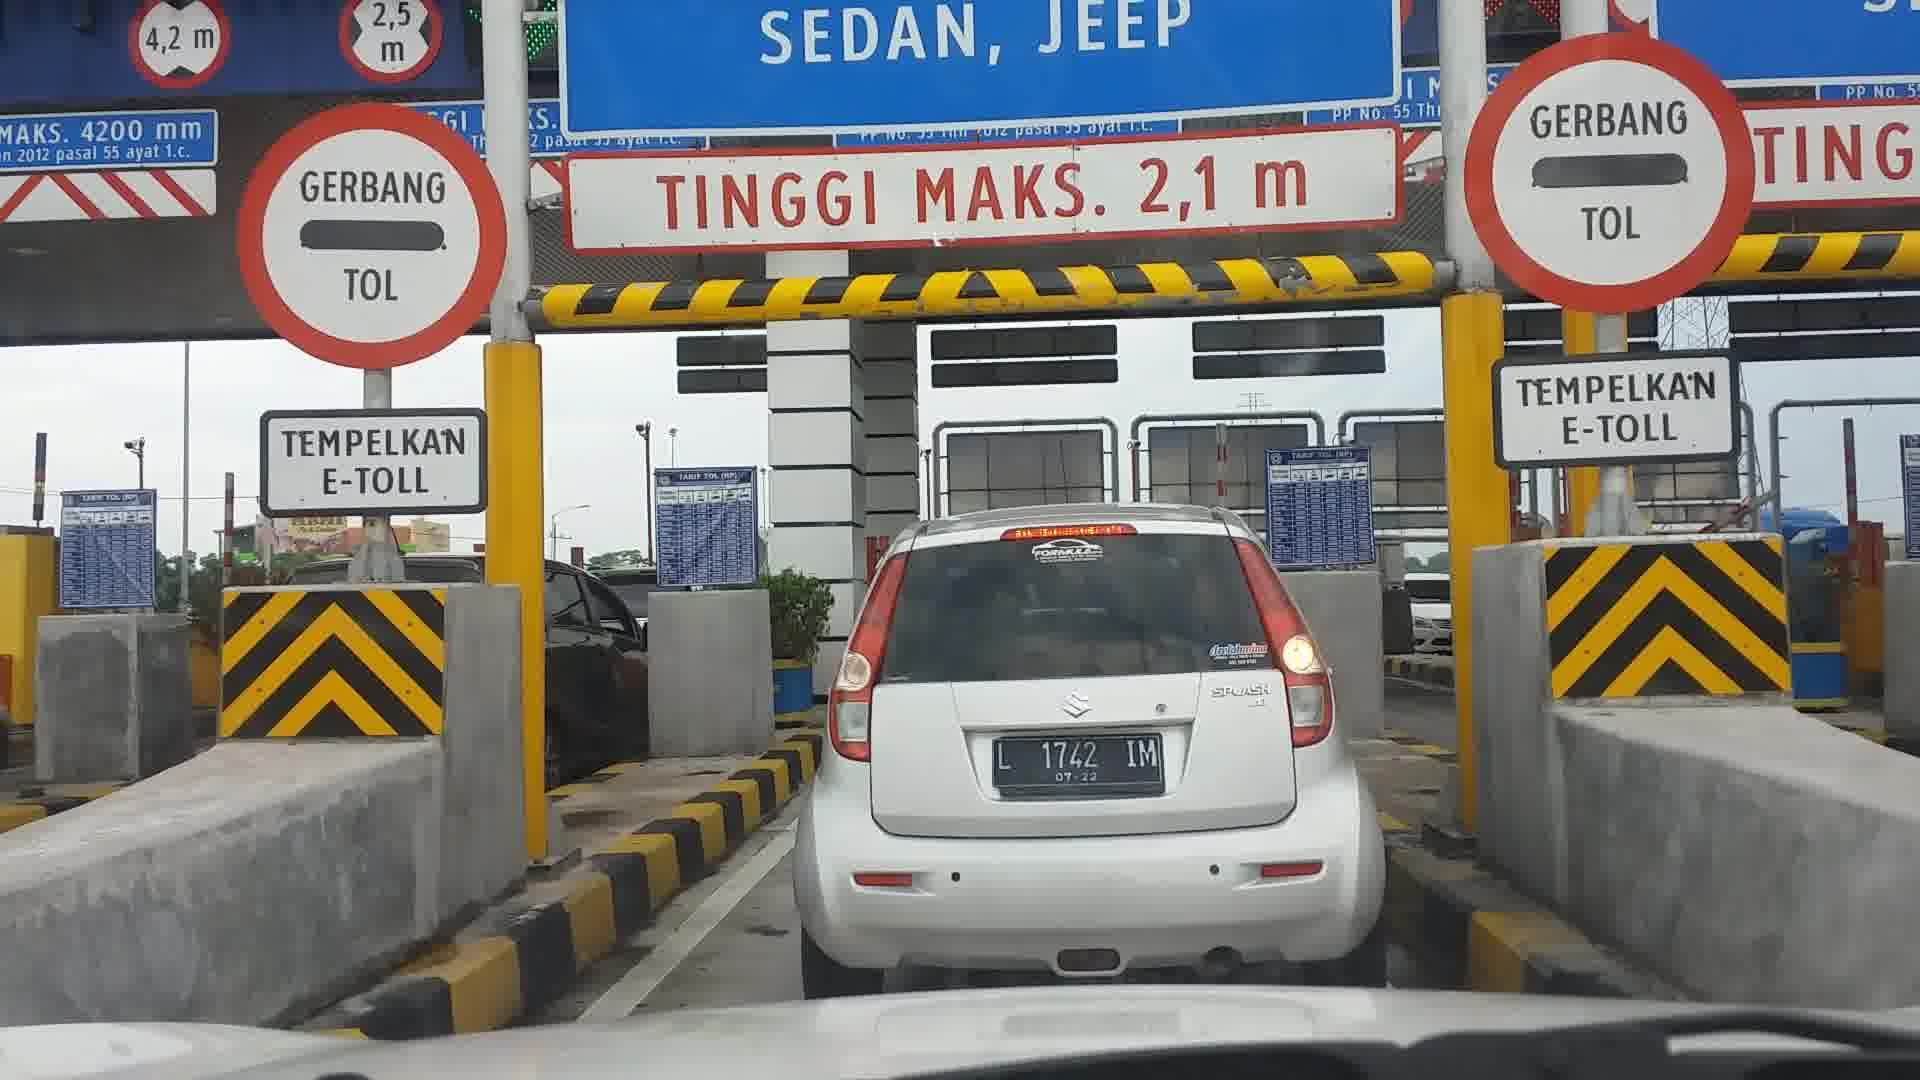plate_positive: (992, 732, 1164, 799)
